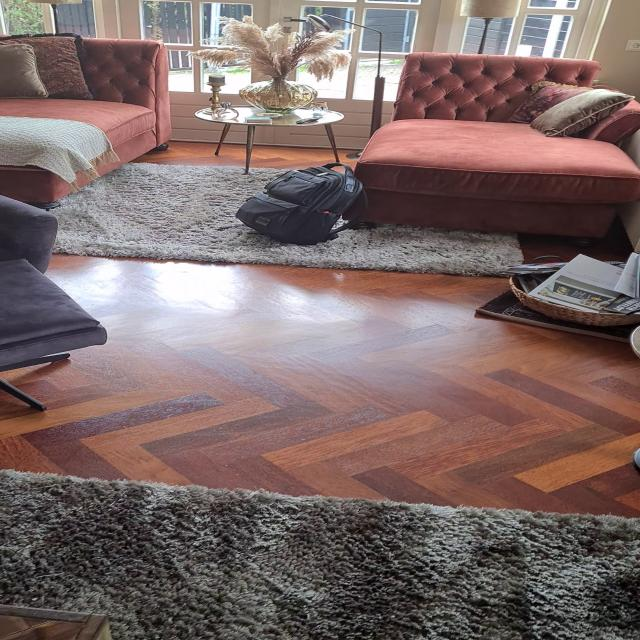backpack: (230, 161, 374, 247)
